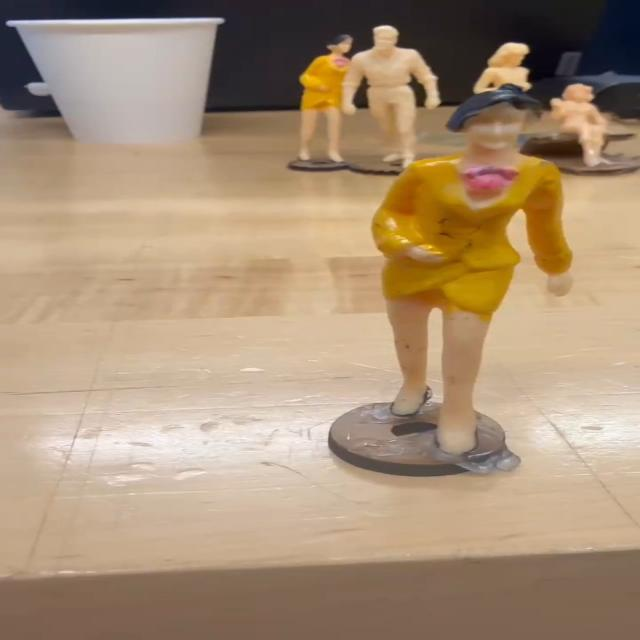Authorized: (360, 81, 602, 459)
